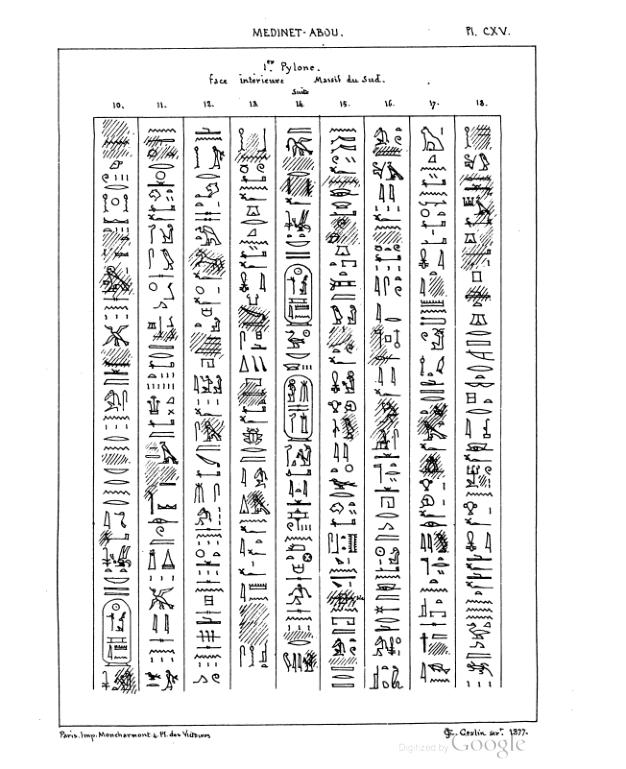circle: (281, 374, 315, 444), (101, 598, 135, 668), (281, 263, 315, 329)
